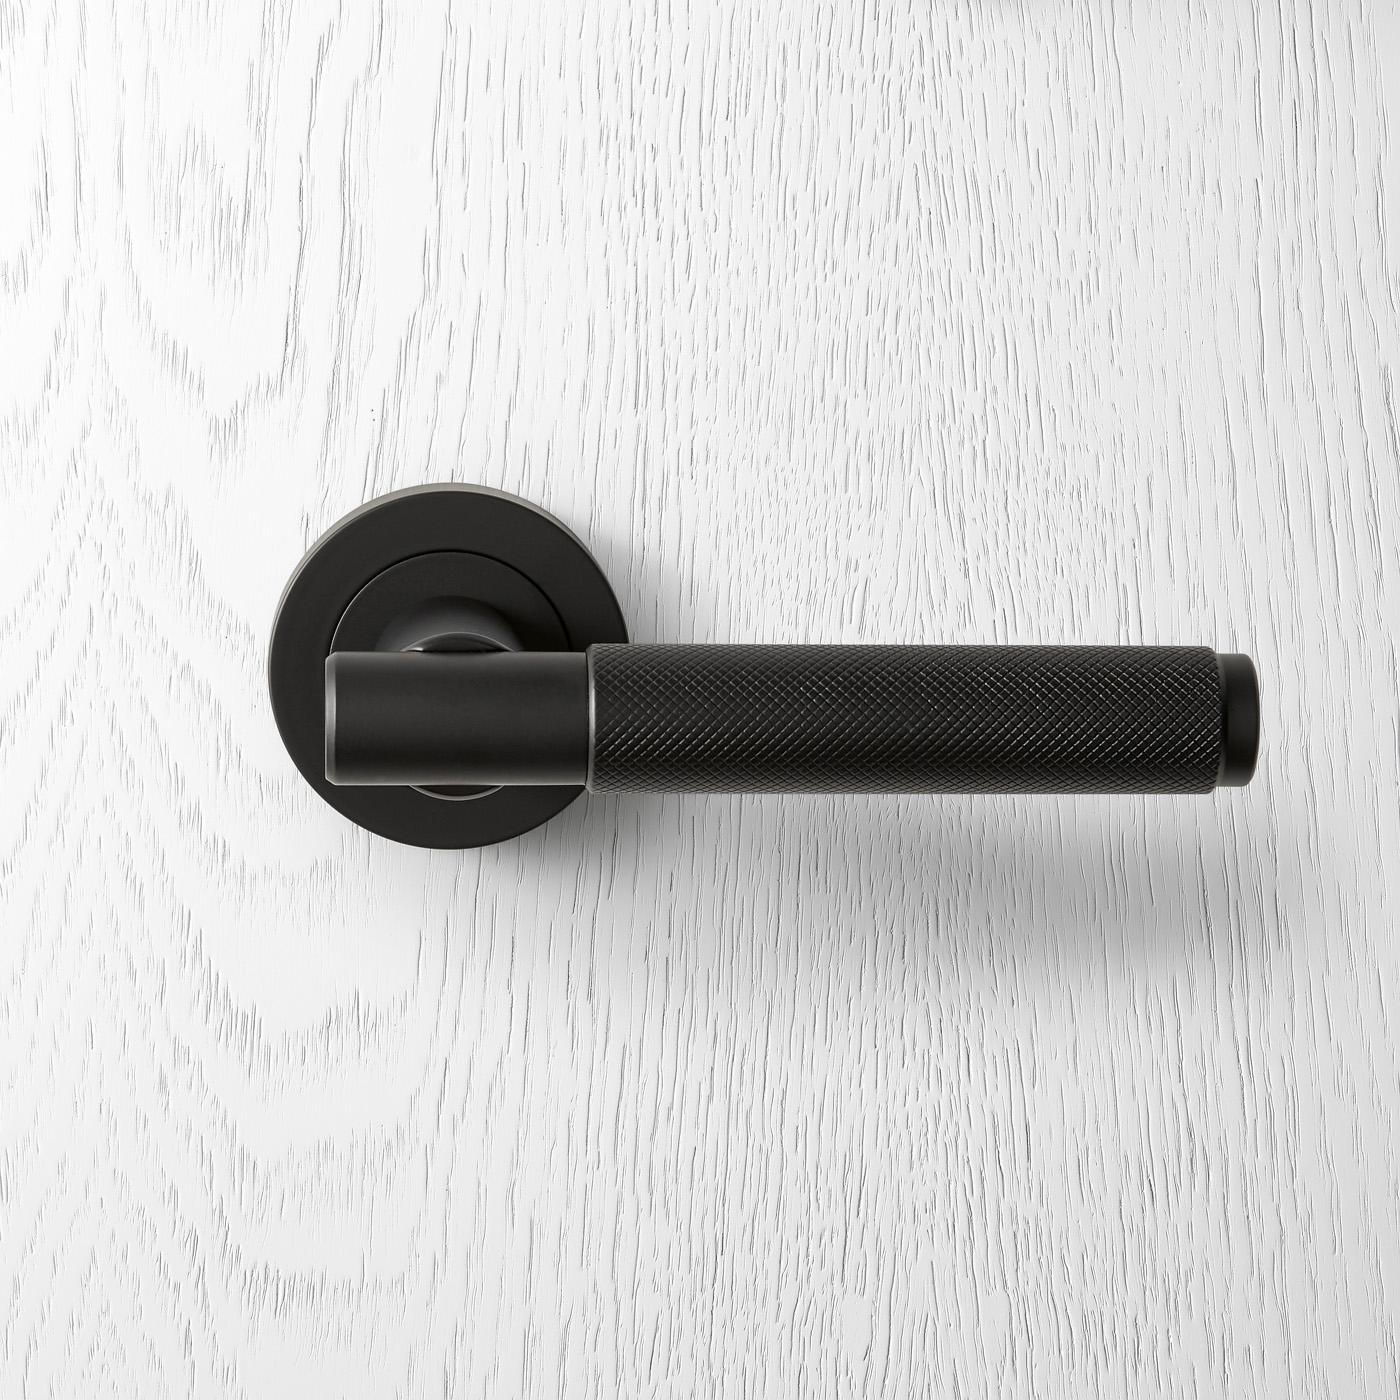doorhandle: (268, 471, 1310, 912)
